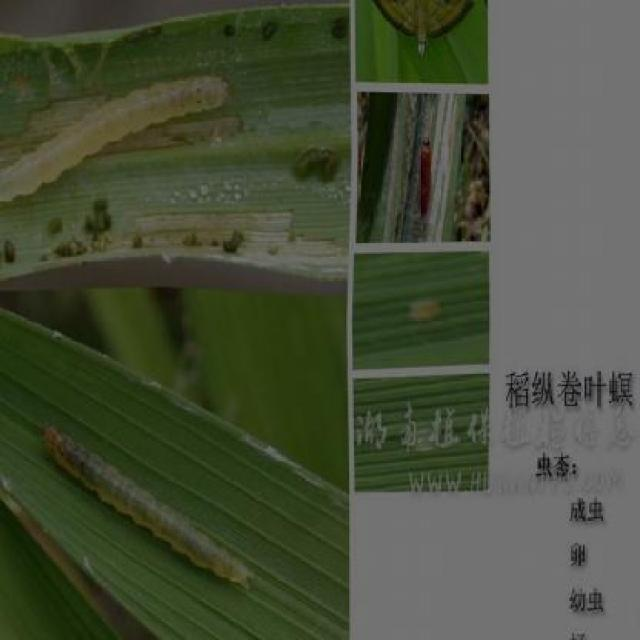leaf-folder: (29, 397, 268, 601), (0, 57, 238, 214), (402, 115, 444, 232), (398, 275, 451, 331)
